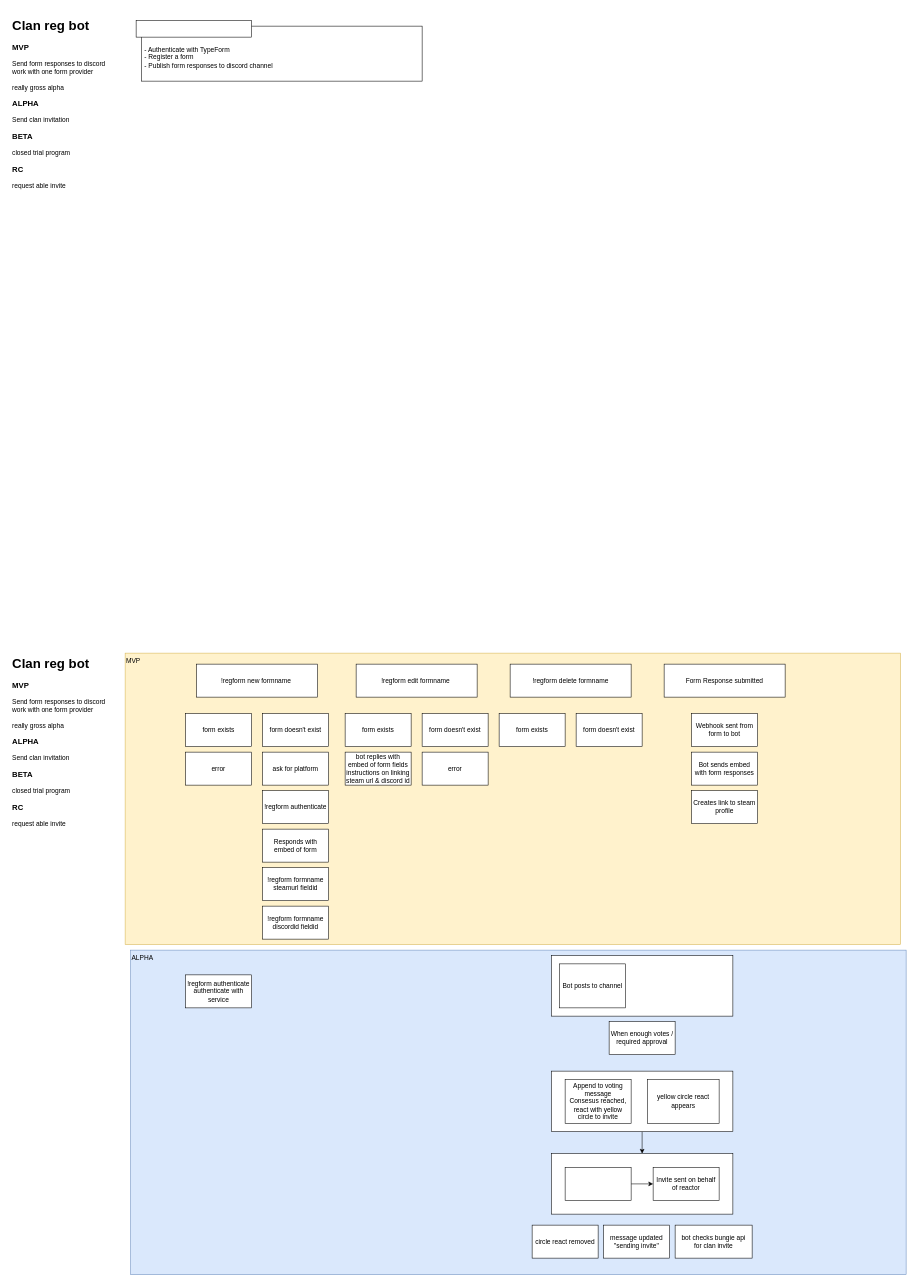
Image size: 916x1284. Some labels were removed from this diagram. The centre of each missing label's shape, as x and y in pixels:
modmin reacts: (x=598, y=1183)
MVP Reqs: (x=194, y=28)
